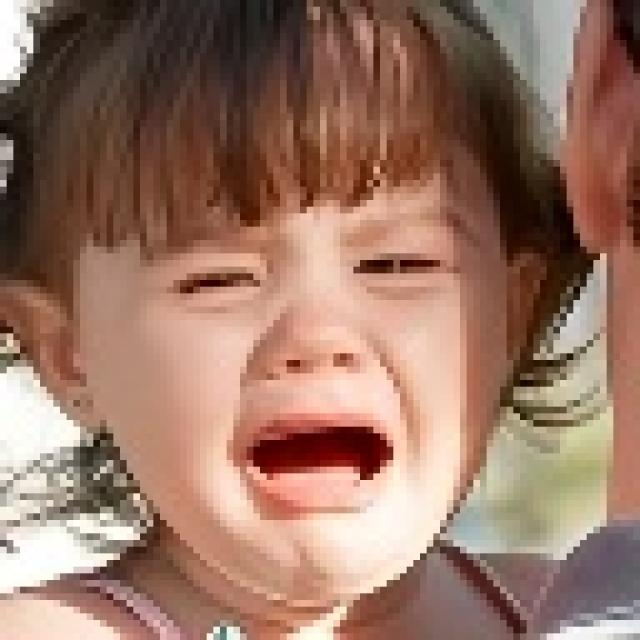sad: (72, 41, 532, 612)
